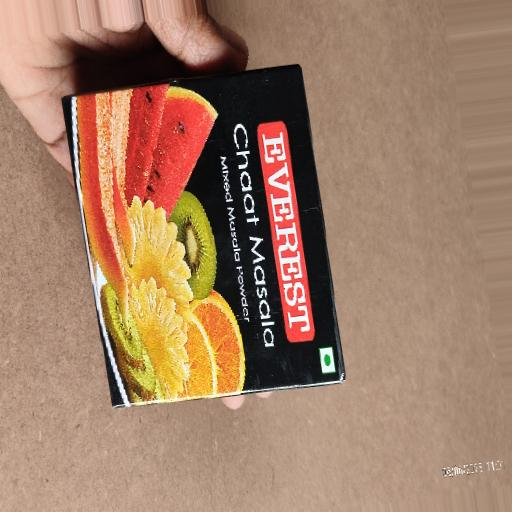Everest Chaat Masala: (37, 64, 380, 426)
